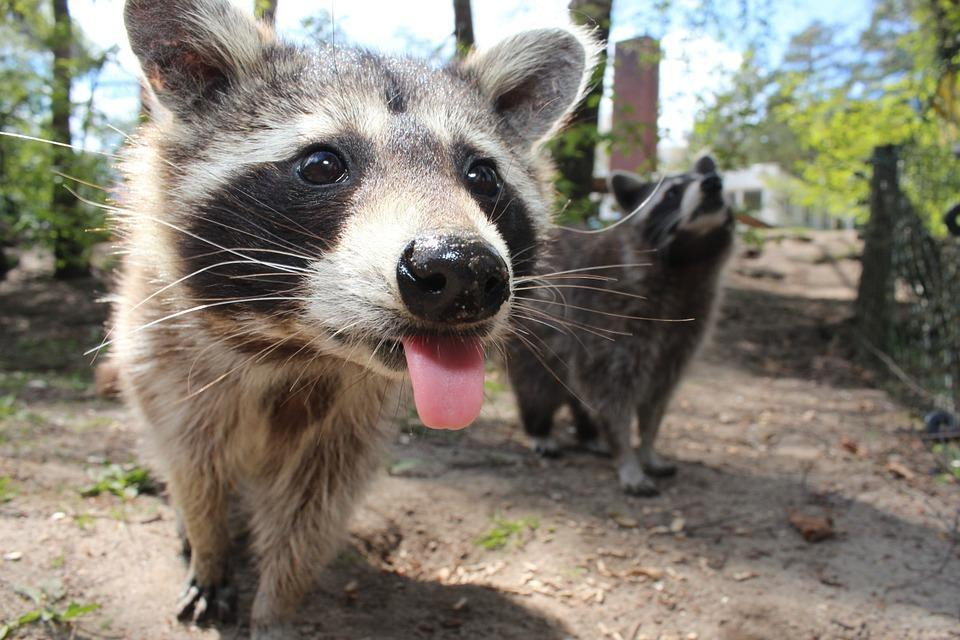raccoon: (89, 0, 586, 640), (509, 153, 741, 495)
